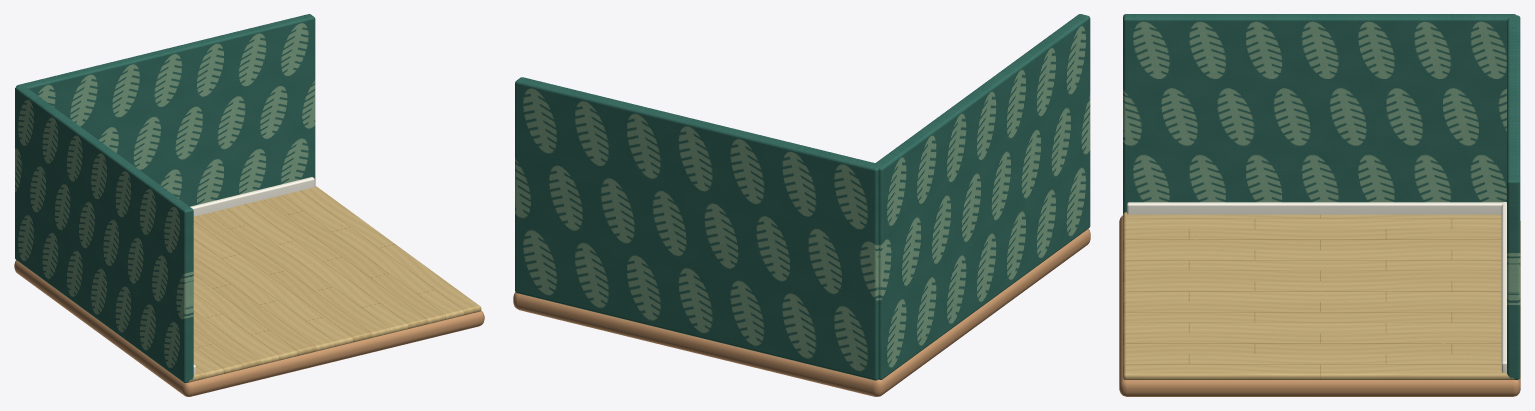
The model's file is room18.glb.
3 renders of one model, left to right at view 1: azimuth 30°, elevation 25°; view 2: azimuth 150°, elevation 25°; view 3: azimuth 270°, elevation 25°, orthographic. The views are drawn at different scales.
Parts seen in each view (by area): view 1: Back wall, Cream floor, Left wall, Rounded room foundation, Back skirting; view 2: Back wall, Left wall, Rounded room foundation; view 3: Left wall, Cream floor, Rounded room foundation, Back wall, Left skirting, Back skirting.
Boxes of the visible parts, left/top/right/bottom form: Back wall: left=16, top=14, right=315, bottom=206; Cream floor: left=188, top=185, right=481, bottom=382; Left wall: left=15, top=85, right=193, bottom=382; Rounded room foundation: left=14, top=260, right=484, bottom=396; Back skirting: left=190, top=177, right=314, bottom=216; Back wall: left=515, top=77, right=879, bottom=380; Left wall: left=874, top=14, right=1090, bottom=379; Rounded room foundation: left=513, top=229, right=1090, bottom=396; Left wall: left=1123, top=14, right=1515, bottom=213; Cream floor: left=1123, top=212, right=1514, bottom=379; Rounded room foundation: left=1119, top=215, right=1520, bottom=396; Back wall: left=1507, top=15, right=1520, bottom=379; Left skirting: left=1127, top=202, right=1506, bottom=214; Back skirting: left=1501, top=202, right=1506, bottom=372.
Bounding box in the file's own units: 5.1 × 3.04 × 5.1.
Materials: 4 (2 with a texture image).
